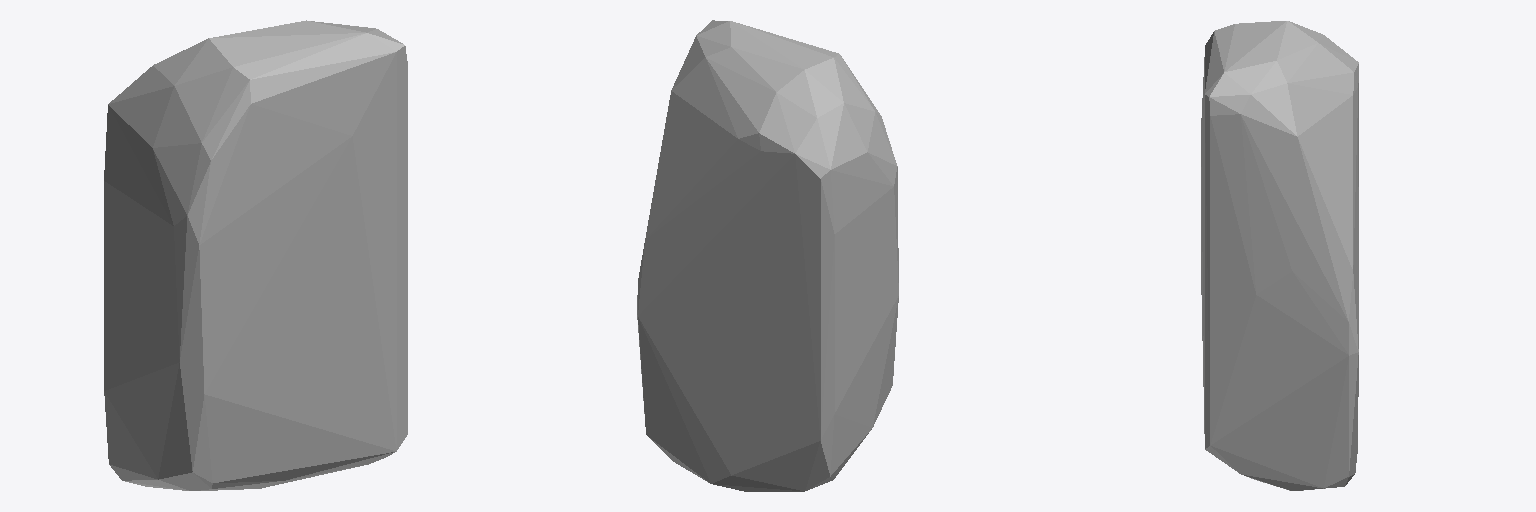
The robot description file, URDF, robot "root":
<robot name="root">
  <link name="link_rock18_convex_piece_0">
    <inertial>
      <origin rpy="0 0 0" xyz="0 0 0"/>
      <mass value="1.05E+06"/>
      <inertia ixx="2.73E+09" ixy="-3.00E+08" ixz="-2.88E+08" iyy="3.85E+09" iyz="7.79E+07" izz="1.94E+09"/>
    </inertial>
    <visual>
      <origin rpy="0 0 0" xyz="0 0 0"/>
      <geometry>
        <mesh filename="rock18_convex_piece_0.obj" scale="1.0000E+00 1.0000E+00 1.0000E+00"/>
      </geometry>
      <material name="">
        <color rgba="7.50E-01 7.50E-01 7.50E-01 1"/>
      </material>
    </visual>
    <collision>
      <origin rpy="0 0 0" xyz="0 0 0"/>
      <geometry>
        <mesh filename="rock18_convex_piece_0.obj" scale="1.0000E+00 1.0000E+00 1.0000E+00"/>
      </geometry>
    </collision>
  </link>
</robot>

--- Facts derived from the render (not from the file) ---
3 views of the same robot in one strip: view 1: azimuth 30°, elevation 25°; view 2: azimuth 150°, elevation 25°; view 3: azimuth 270°, elevation 25° (orthographic).
Robot: root — 1 links, 0 joints (none); root link link_rock18_convex_piece_0; default pose: every joint at zero.
Visible links, largest first — view 1: link_rock18_convex_piece_0; view 2: link_rock18_convex_piece_0; view 3: link_rock18_convex_piece_0.
Link boxes in pixels (x1,y1,x2,y2): link_rock18_convex_piece_0: (104,20,407,490); link_rock18_convex_piece_0: (637,20,898,491); link_rock18_convex_piece_0: (1201,21,1358,490).
Size in the robot's own frame: 99.77 by 66.57 by 197 metres.
1 mesh visuals loaded from 1 distinct referenced files (1 OBJ).